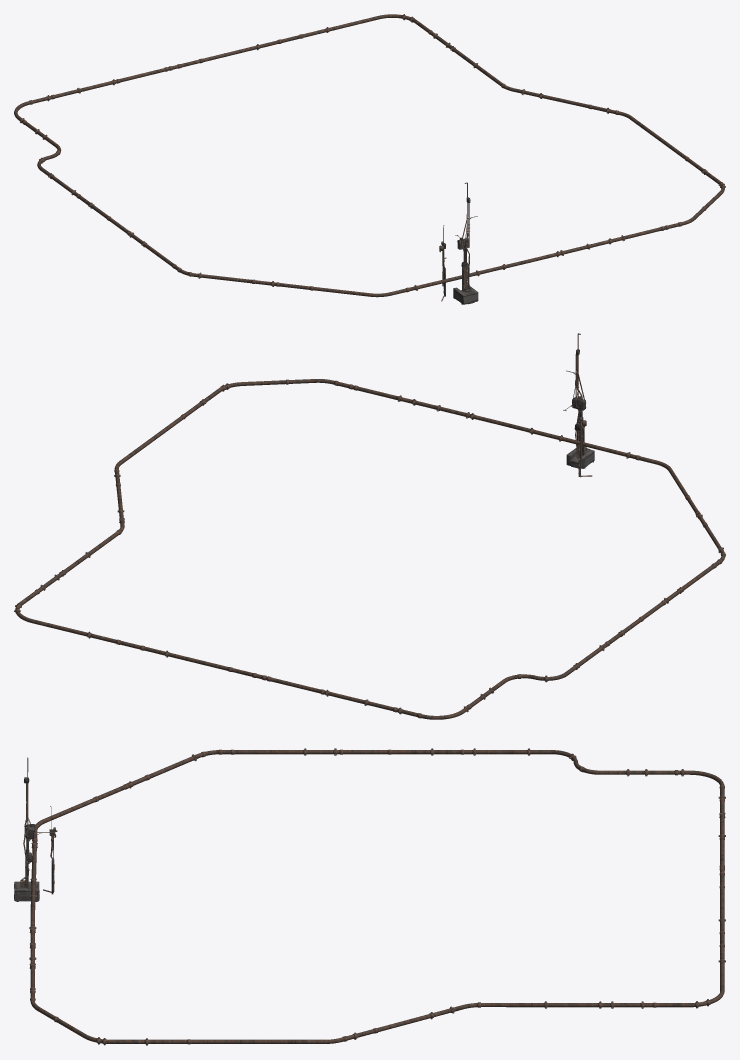
File: Test_ring.fbx
3 renders of one model, top to bottom at view 1: azimuth 30°, elevation 25°; view 2: azimuth 150°, elevation 25°; view 3: azimuth 270°, elevation 25°, orthographic. The views are drawn at different scales.
Parts seen in each view (by area): view 1: Vert.019; view 2: Vert.019; view 3: Vert.019.
Part boxes in pixels (x1=…): Vert.019: x1=14, y1=14, x2=725, y2=297; Vert.019: x1=14, y1=379, x2=725, y2=719; Vert.019: x1=29, y1=748, x2=725, y2=1045.
Size of the model in its own units: 2349 by 535 by 2413.
